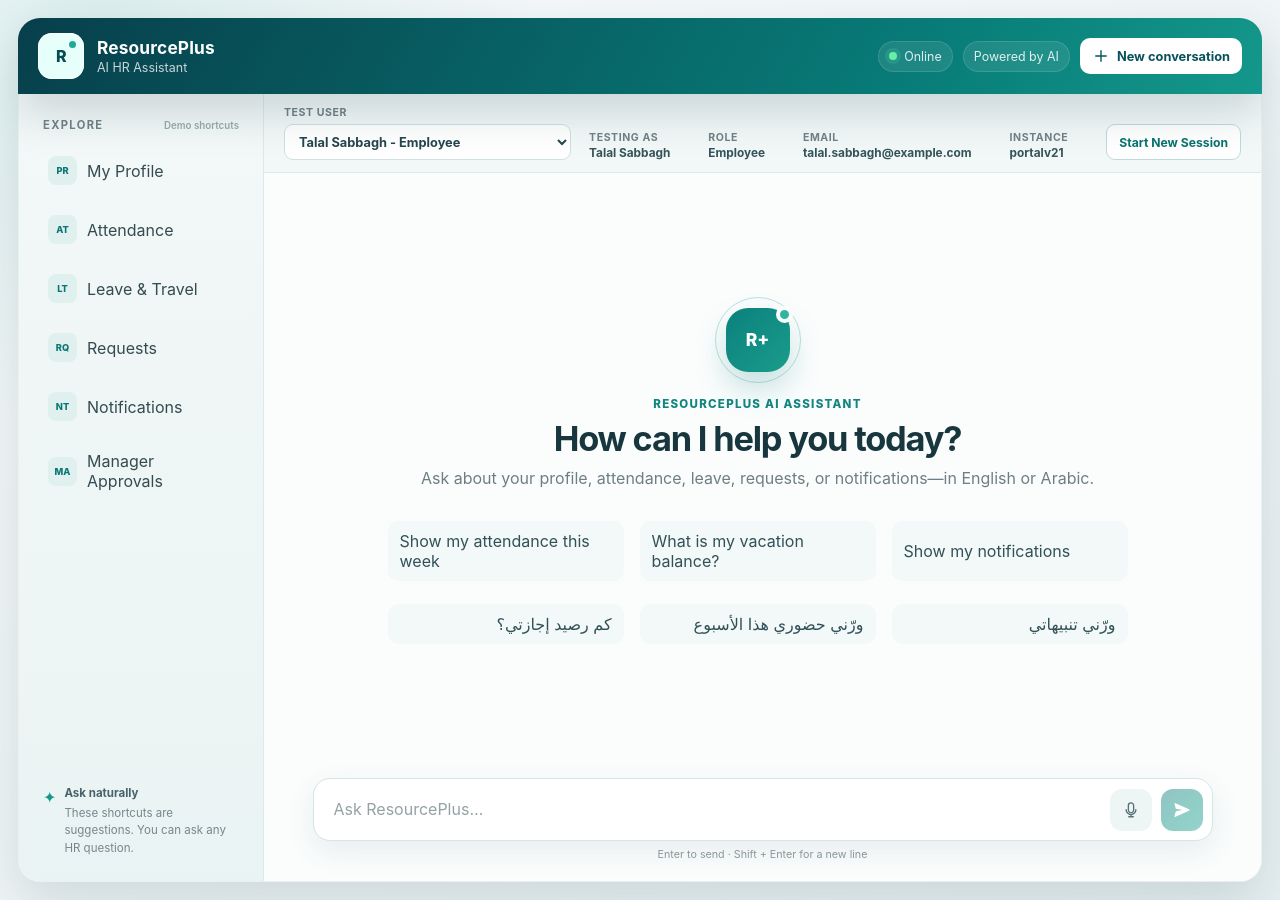
Test: ResourcePlus demo UI › keeps the composer mounted beside a long assistant Markdown response
The image size is (1280, 900).
Type "Show my complete attendance history" into the text box named "Message ResourcePlus" at x=712, y=809, box [322,788,1100,831]
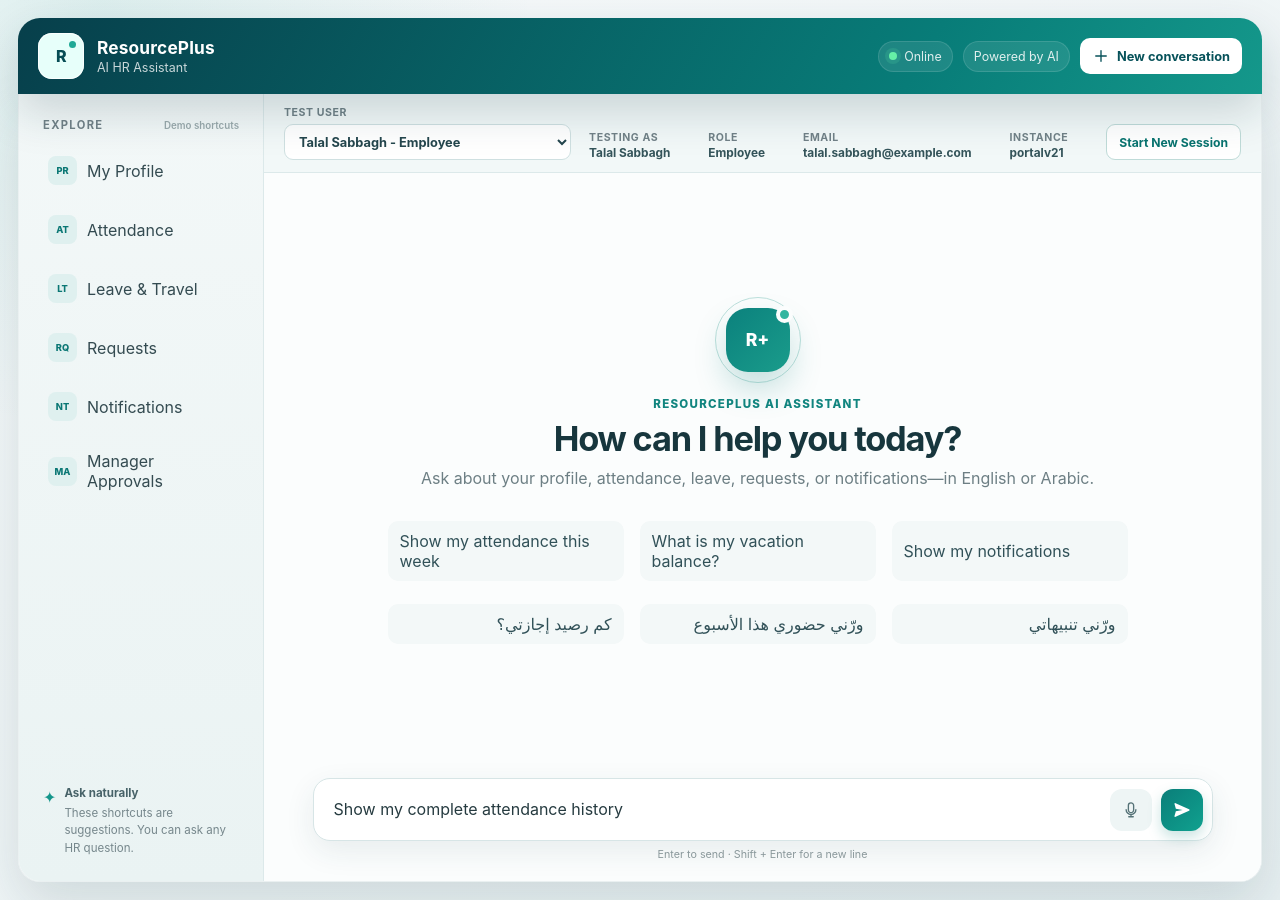
Click the button named "Send message" at x=1182, y=810, box [1160,789,1202,831]
(page scrolled)
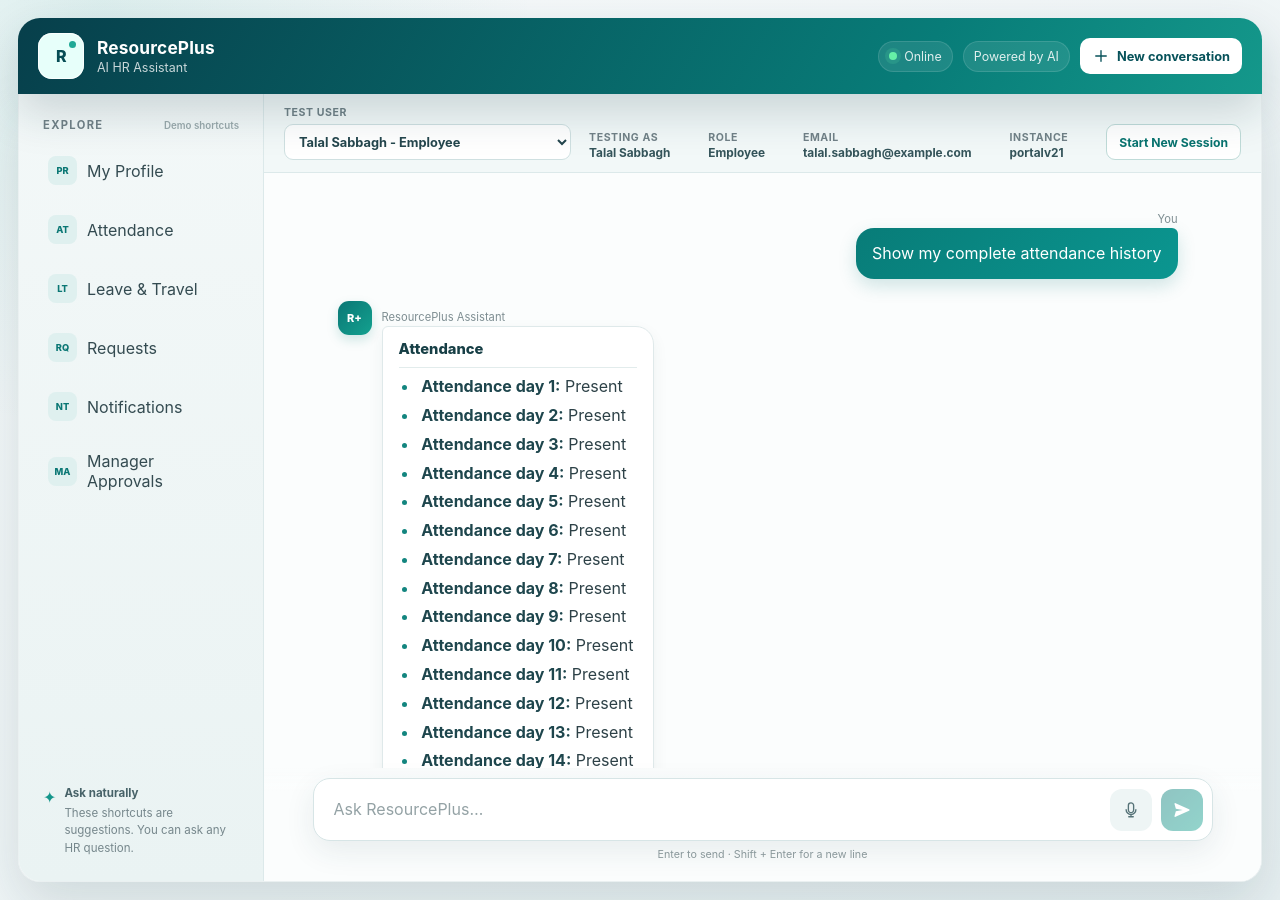
Check: the heading "Attendance" is shown, box [398,340,637,368]
